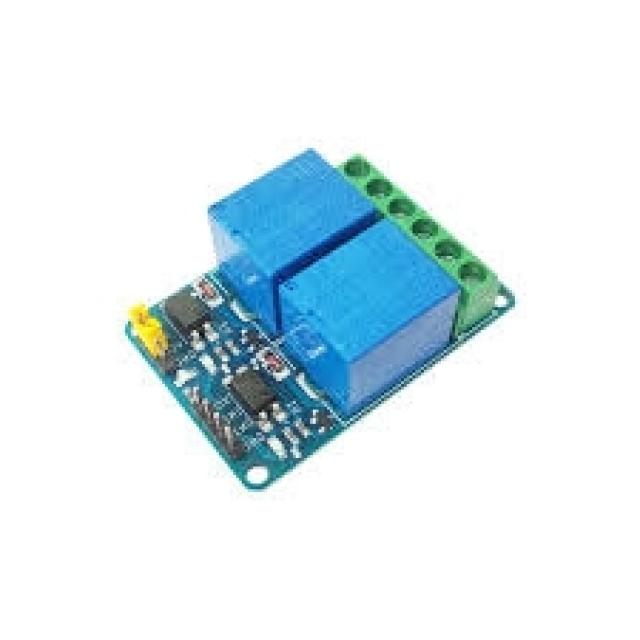Relay: (128, 148, 515, 492)
